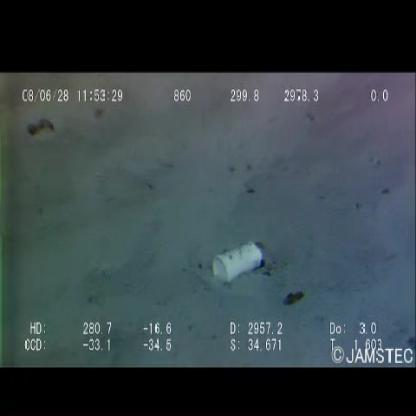Rác: (213, 240, 266, 282)
